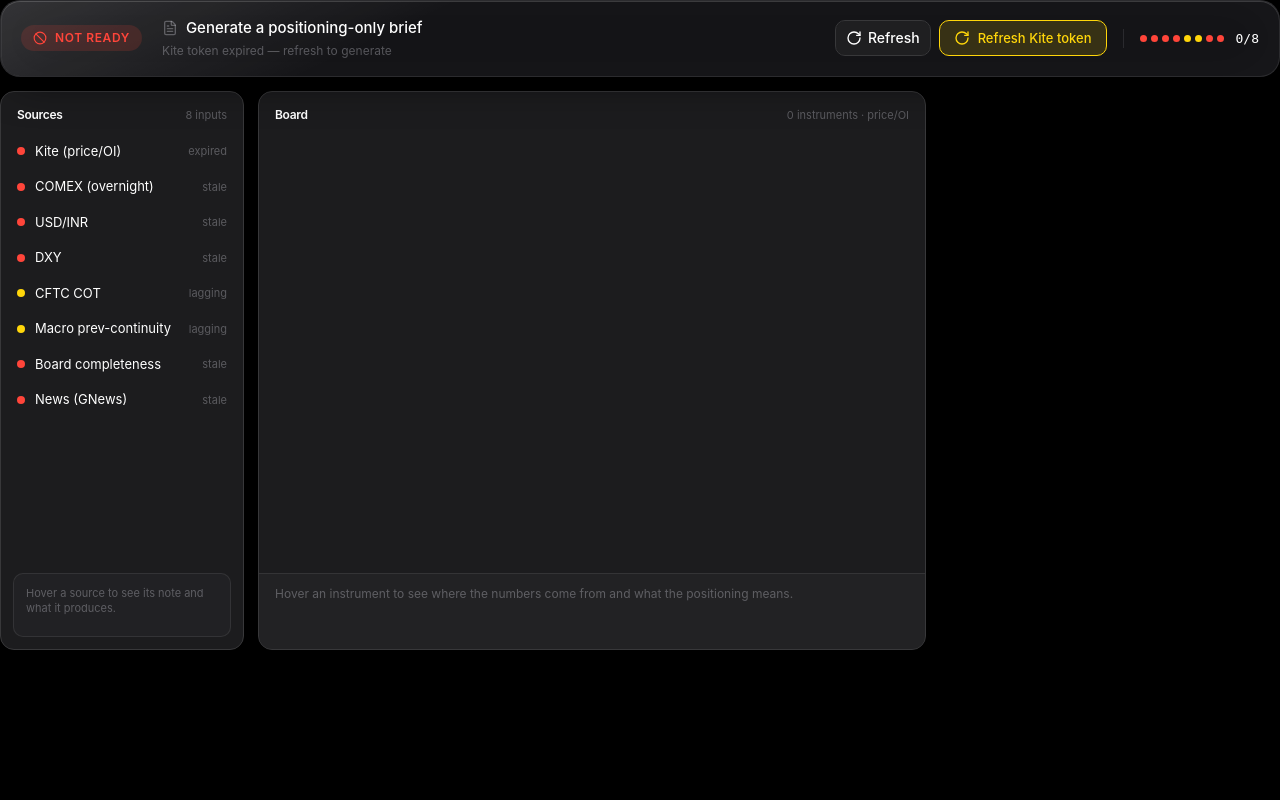
Test case: ReadinessScreen — registry-driven, honest, manual-refresh only (FIN-174) › the Refresh-all sweep surfaces a PARTIAL report that NAMES the failed source, not a generic failure
Click the button "Refresh" at point(883, 38), box left=835, top=20, right=931, bottom=56
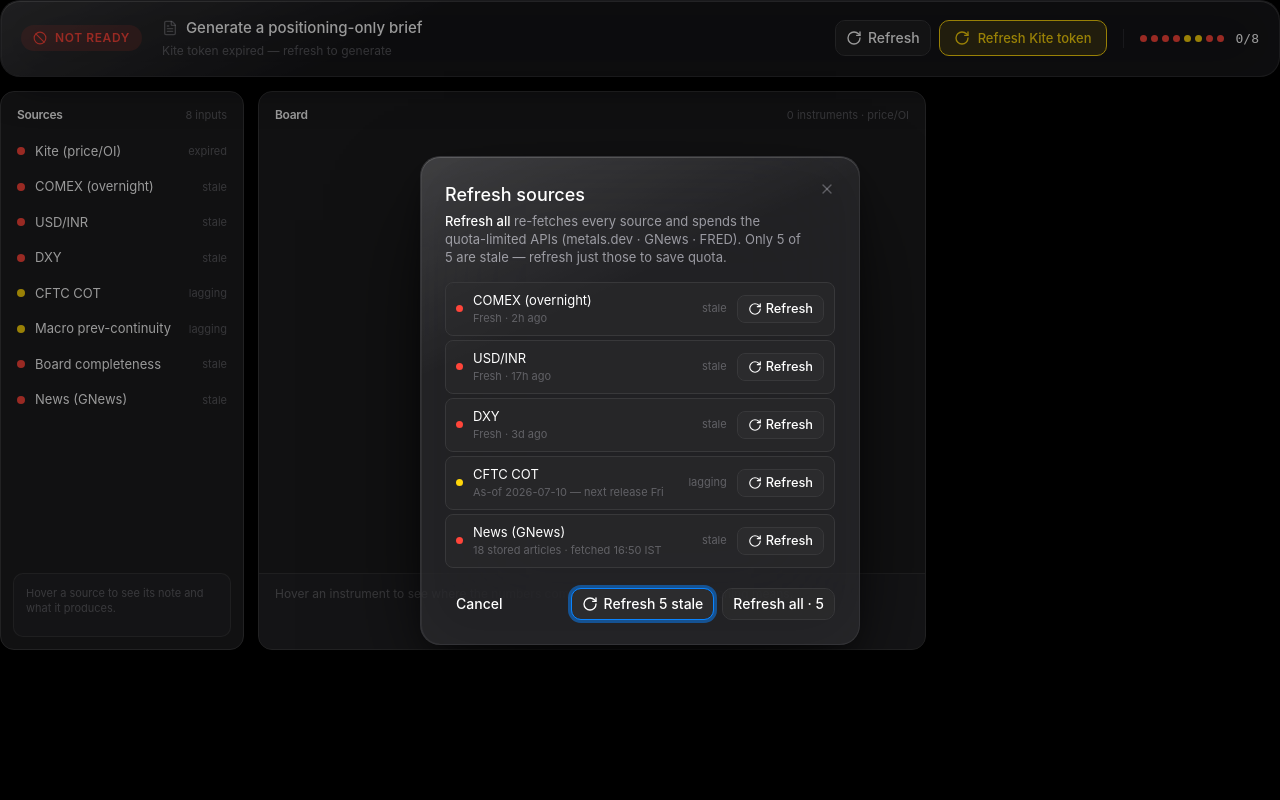
Click the button "Refresh all · 5" at point(779, 604), box left=722, top=588, right=835, bottom=620
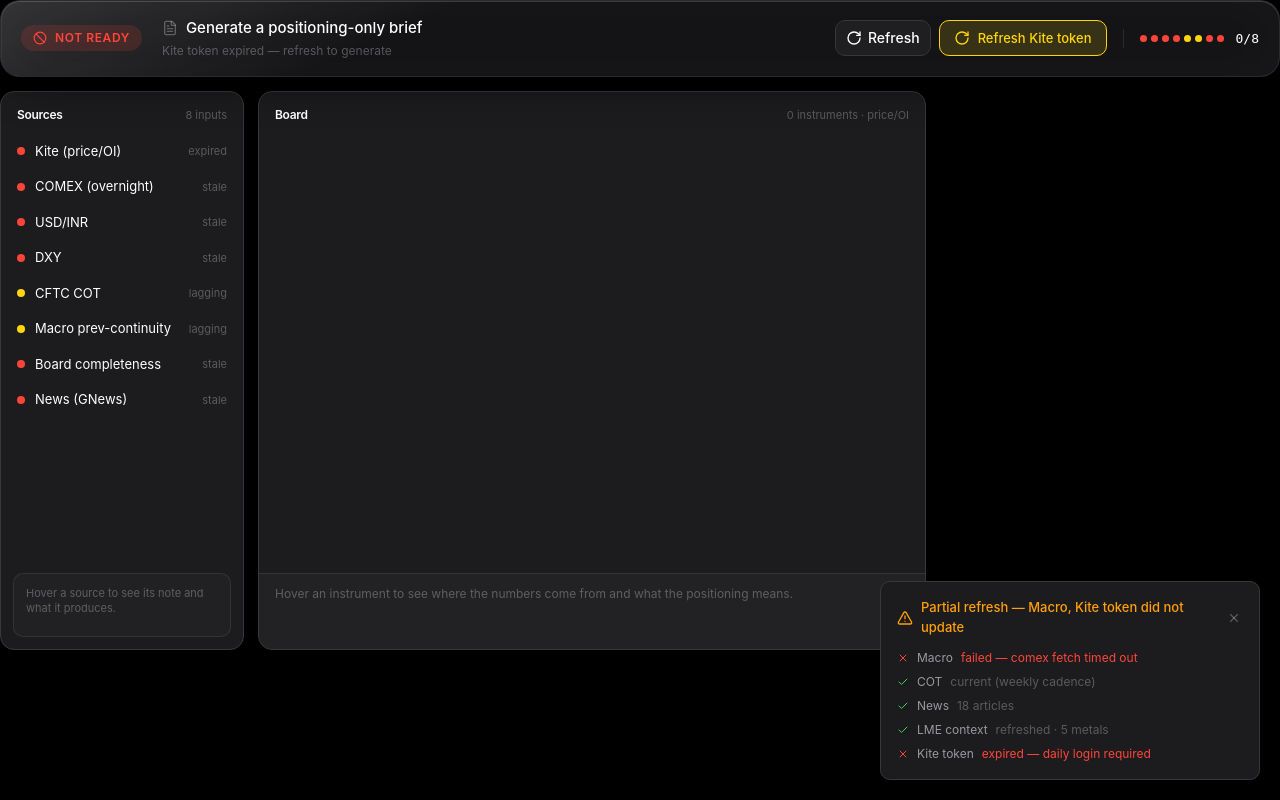
Expected: the text "Partial refresh — Macro, Kite token did not update" is shown, left=921, top=598, right=1217, bottom=637
Expected: the text "failed — comex fetch timed out" is shown, left=961, top=649, right=1138, bottom=667
